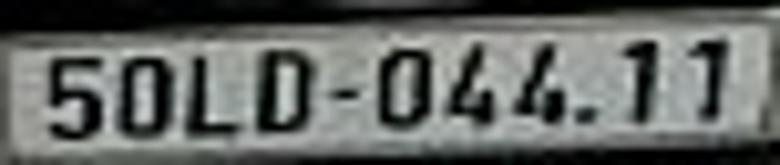-: (332, 90, 356, 99)
.: (579, 108, 593, 123)
0: (376, 50, 430, 128), (121, 56, 170, 136)
1: (694, 39, 725, 120), (627, 39, 656, 123)
4: (516, 40, 564, 125), (450, 43, 494, 126)
5: (50, 57, 101, 143)
D: (257, 50, 311, 132)
L: (190, 57, 233, 134)
